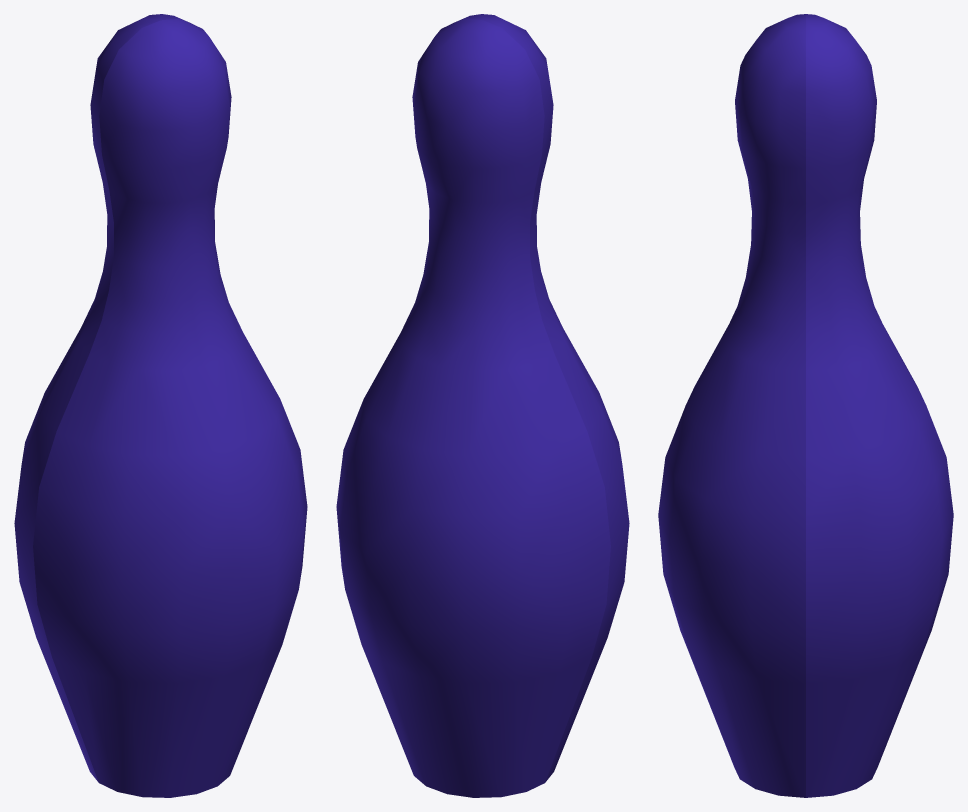
The model's file is obj_rewards_10pin.fbx.
3 renders of one model, left to right at view 1: azimuth 30°, elevation 25°; view 2: azimuth 150°, elevation 25°; view 3: azimuth 270°, elevation 25°, orthographic.
Parts seen in each view (by area): view 1: obj_rewards_10pin; view 2: obj_rewards_10pin; view 3: obj_rewards_10pin.
Boxes of the visible parts, box(x1,y1,x2,y2) form: obj_rewards_10pin: box(14, 14, 307, 797); obj_rewards_10pin: box(336, 14, 629, 797); obj_rewards_10pin: box(658, 14, 953, 797).
Size of the model in its own units: 1.07 by 2.99 by 1.07.
